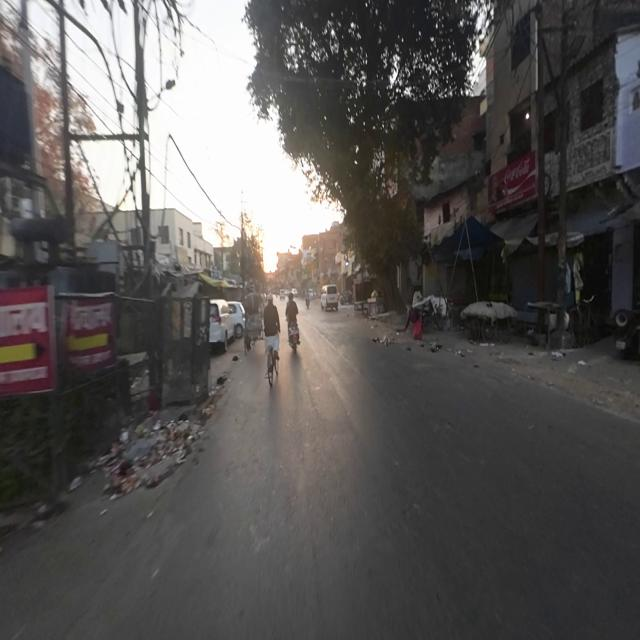Garbage: (105, 418, 195, 479)
